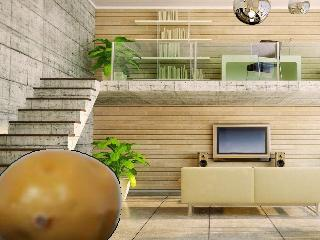potato: (0, 148, 122, 239)
